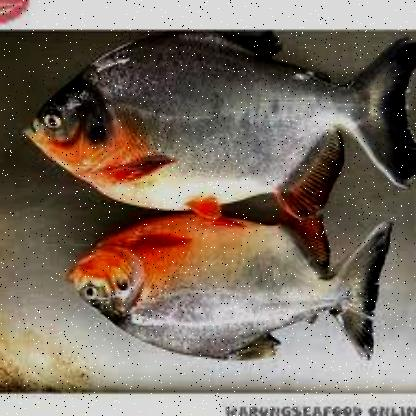ikan-pacu: (31, 31, 415, 214), (68, 219, 376, 356)
